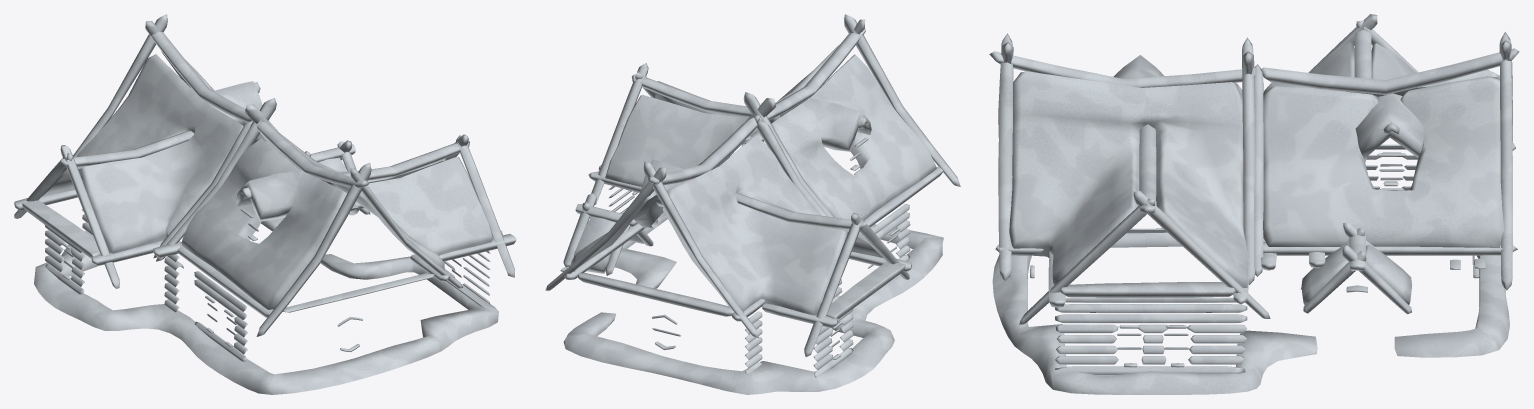
File: Tavern_Snow.fbx
3 views of the same model, side by side, from view 1: azimuth 30°, elevation 25°; view 2: azimuth 150°, elevation 25°; view 3: azimuth 270°, elevation 25° (orthographic). The views are drawn at different scales.
Visible parts, largest first — view 1: Tavern_Snow_LOD0; view 2: Tavern_Snow_LOD0; view 3: Tavern_Snow_LOD0.
Boxes of the visible parts, x1,y1,x2,y2 form: Tavern_Snow_LOD0: (14, 14, 516, 394); Tavern_Snow_LOD0: (545, 14, 960, 394); Tavern_Snow_LOD0: (989, 14, 1519, 394).
Size of what is drawn, in the model's own units: 2078 by 1249 by 2295.
